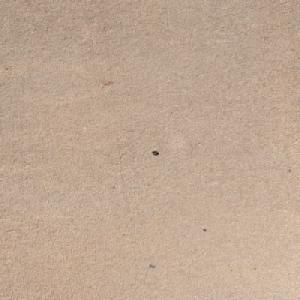Nut: (151, 150, 158, 154)
